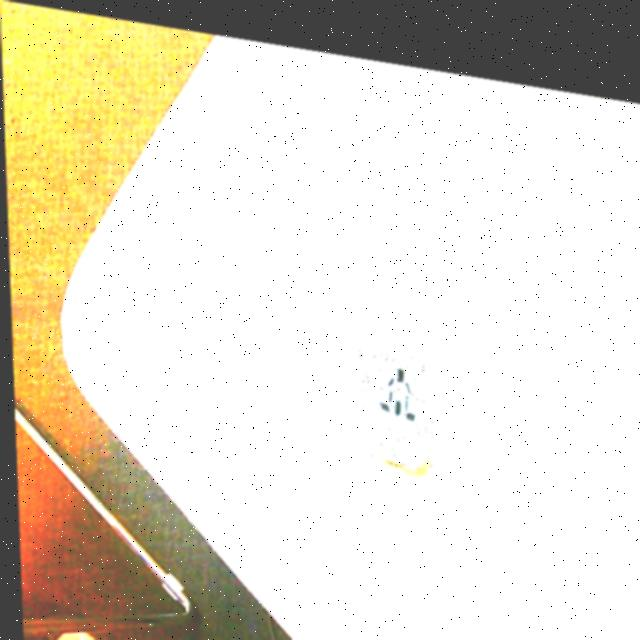adapter: (357, 336, 433, 458)
